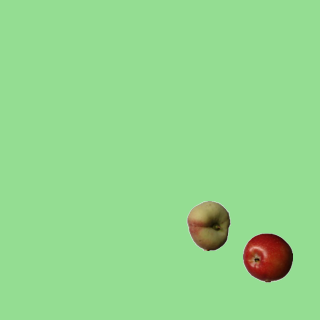Apple Braeburn: (242, 232, 292, 282)
Peach Flat: (183, 200, 233, 250)
